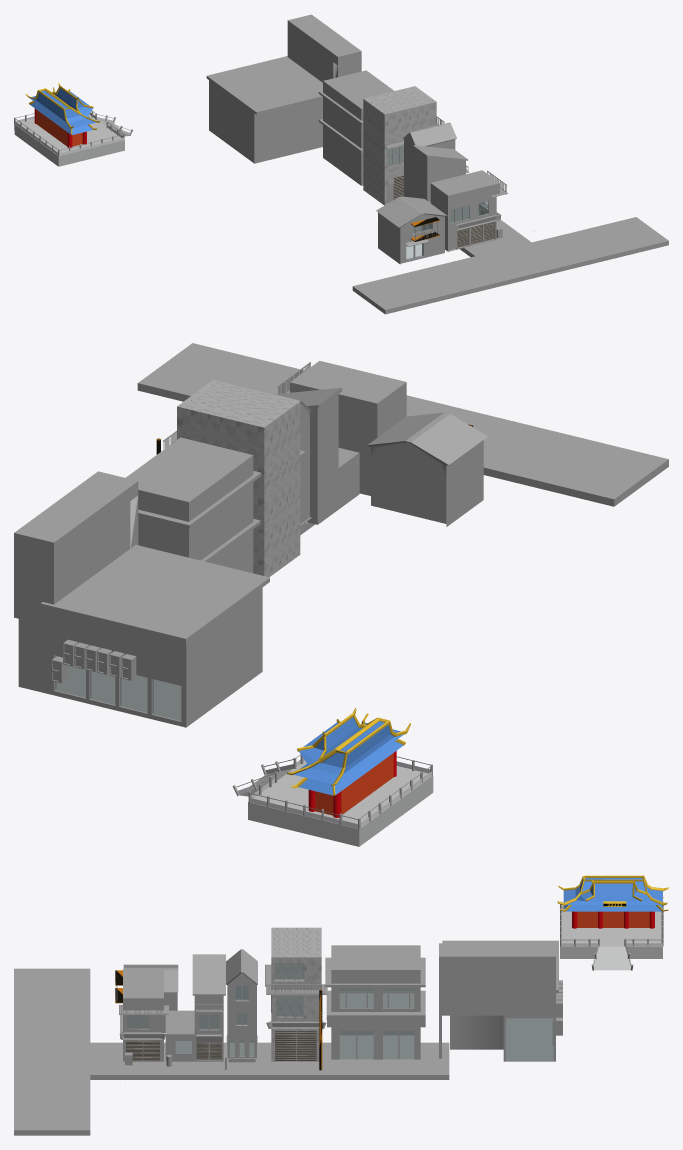
File: simple.fbx
3 views of the same model, one above another, from view 1: azimuth 30°, elevation 25°; view 2: azimuth 150°, elevation 25°; view 3: azimuth 270°, elevation 25° (orthographic). The views are drawn at different scales.
Parts seen in each view (by area): view 1: hause3, pCube93, polySurface1553, hause10, hause2, hause9, hause1, hause8, hause4, pCube92; view 2: hause3, pCube93, polySurface1553, hause2, hause10, hause1, hause9, hause8, hause4; view 3: hause3, pCube93, hause2, pCube92, polySurface1553, hause10, hause8, hause9, hause4, hause1.
Boxes of the visible parts, box(x1,y1,x2,y2) form: hause3: box(206, 14, 361, 163); pCube93: box(352, 217, 668, 314); polySurface1553: box(14, 83, 132, 166); hause10: box(363, 86, 444, 205); hause2: box(318, 70, 393, 185); hause9: box(430, 170, 508, 251); hause1: box(376, 196, 447, 264); hause8: box(412, 145, 468, 202); hause4: box(403, 122, 456, 197); pCube92: box(460, 219, 531, 257); hause3: box(14, 471, 269, 727); pCube93: box(137, 343, 668, 506); polySurface1553: box(232, 708, 433, 846); hause2: box(125, 437, 261, 573); hause10: box(163, 380, 304, 577); hause1: box(367, 412, 487, 526); hause9: box(277, 360, 406, 495); hause8: box(276, 387, 359, 524); hause4: box(233, 384, 311, 529); hause3: box(439, 940, 562, 1061); pCube93: box(14, 968, 90, 1135); hause2: box(325, 945, 425, 1059); pCube92: box(90, 1042, 449, 1079); polySurface1553: box(557, 875, 668, 970); hause10: box(265, 927, 327, 1061); hause8: box(165, 954, 225, 1061); hause9: box(119, 968, 168, 1061); hause4: box(226, 949, 257, 1062); hause1: box(115, 964, 178, 1032).
Size of what is drawn, in the model's own units: 188 by 45.29 by 242.
29 materials, 5 textured.
